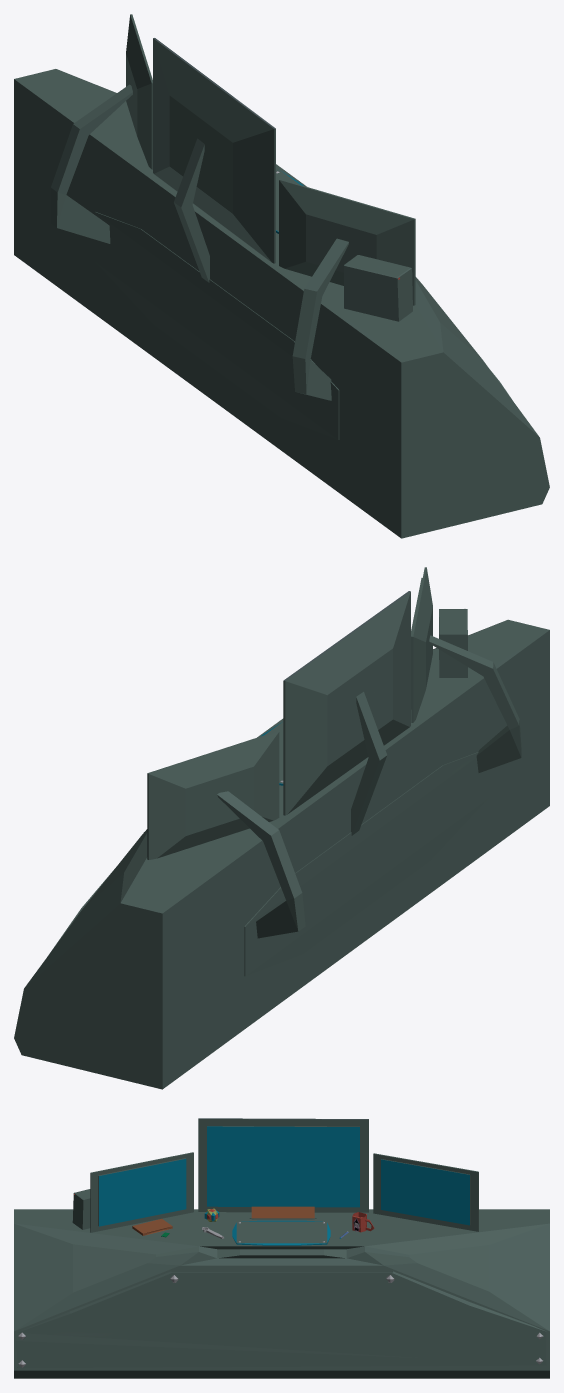
The model's file is terminalk_2.fbx.
3 views of the same model, one above another, from view 1: azimuth 30°, elevation 25°; view 2: azimuth 150°, elevation 25°; view 3: azimuth 270°, elevation 25° (orthographic). The views are drawn at different scales.
Visible parts, largest first — view 1: Cube; view 2: Cube; view 3: Cube.
Boxes of the visible parts, x1,y1,x2,y2 form: Cube: [14, 14, 549, 538]; Cube: [14, 567, 549, 1089]; Cube: [14, 1118, 549, 1378].
Bounding box in the file's own units: 239 × 353 × 798.
